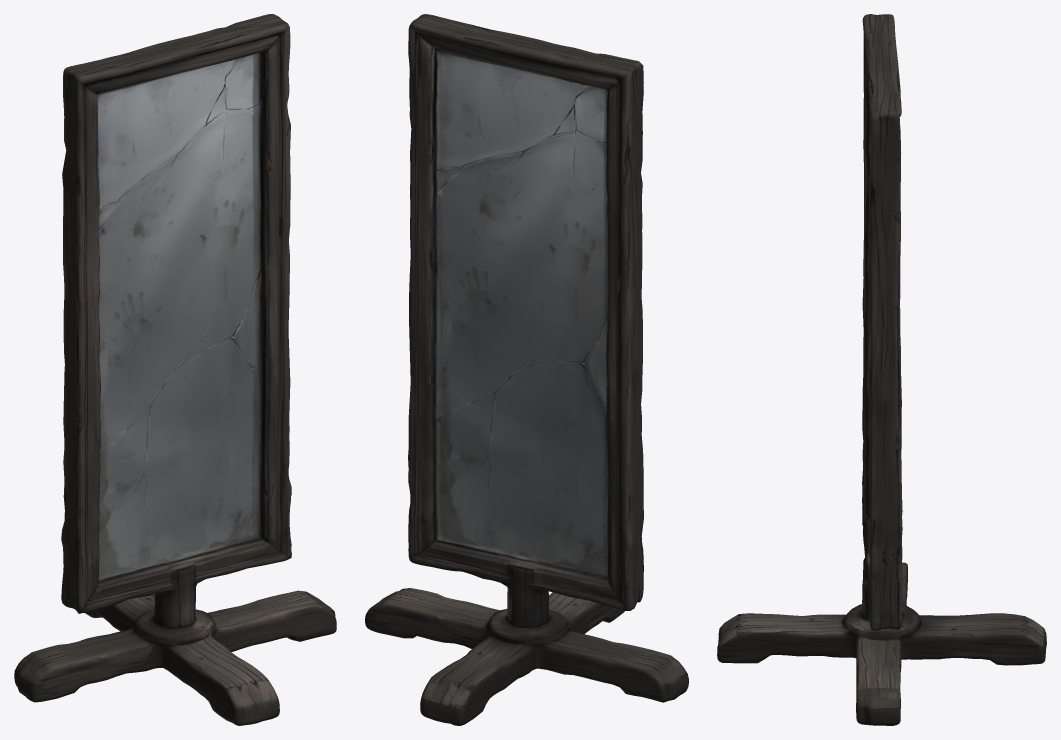
Rendered from mirror.fbx.
3 renders of one model, left to right at view 1: azimuth 30°, elevation 25°; view 2: azimuth 150°, elevation 25°; view 3: azimuth 270°, elevation 25°, orthographic. The views are drawn at different scales.
Parts seen in each view (by area): view 1: tripo_node_c4bd867e; view 2: tripo_node_c4bd867e; view 3: tripo_node_c4bd867e.
Part boxes in pixels (x1=…): tripo_node_c4bd867e: x1=14, y1=14, x2=336, y2=725; tripo_node_c4bd867e: x1=365, y1=14, x2=688, y2=725; tripo_node_c4bd867e: x1=717, y1=14, x2=1046, y2=725.
Size of the model in its own units: 50.82 by 49.23 by 97.81.
Materials: 1 (1 with a texture image).
